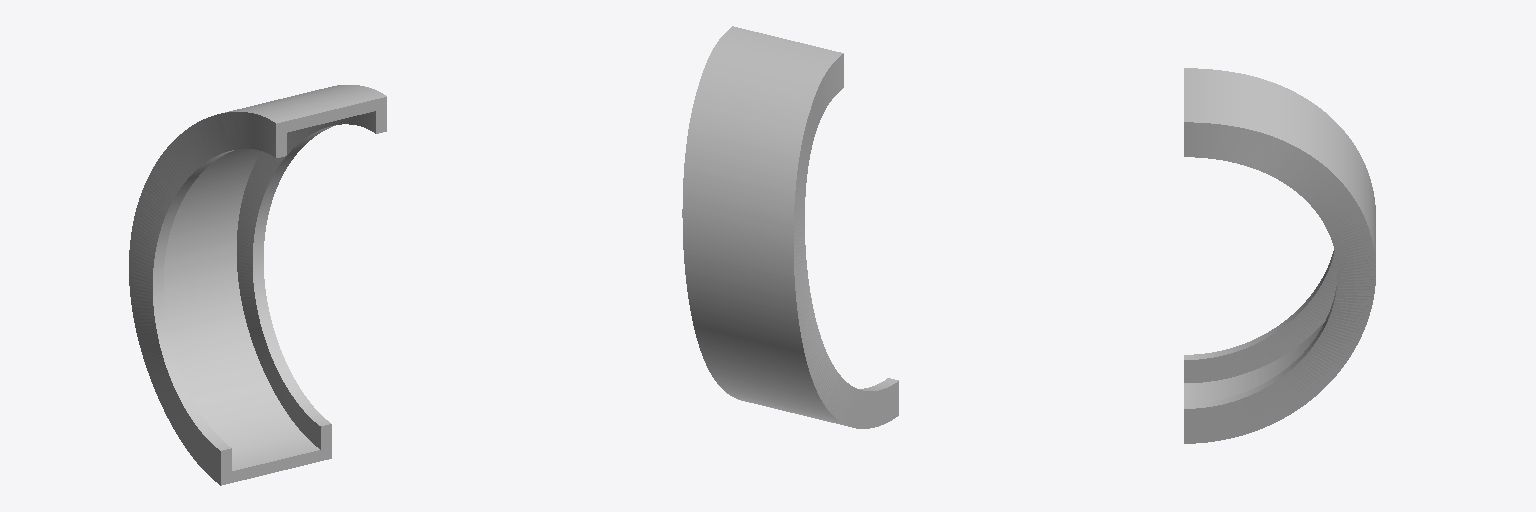
File: Loop.obj
3 views of the same model, side by side, from view 1: azimuth 30°, elevation 25°; view 2: azimuth 150°, elevation 25°; view 3: azimuth 270°, elevation 25° (orthographic).
Visible parts, largest first — view 1: Loop; view 2: Loop; view 3: Loop.
Part boxes in pixels (x1,y1,x2,y2): Loop: (129, 85, 386, 485); Loop: (682, 26, 898, 428); Loop: (1184, 68, 1375, 443).
Bounding box in the file's own units: 3 × 6 × 3.